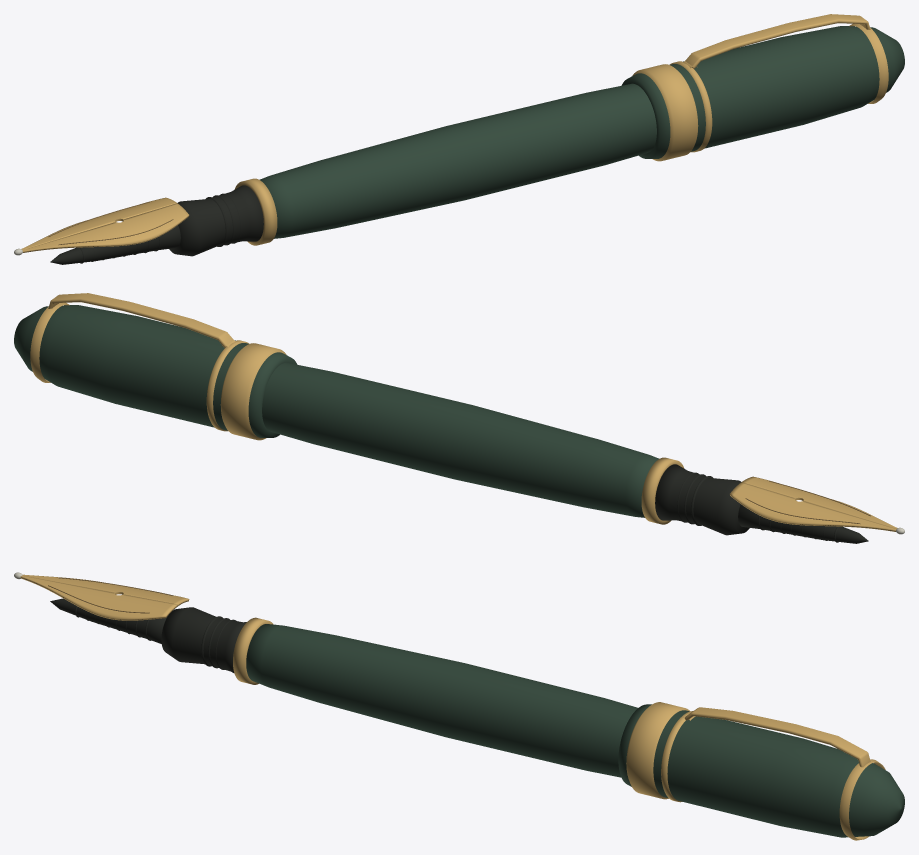
File: pen.glb
3 renders of one model, top to bottom at view 1: azimuth 30°, elevation 25°; view 2: azimuth 150°, elevation 25°; view 3: azimuth 330°, elevation 25°, orthographic.
Parts seen in each view (by area): view 1: EXPORT_Posted cap rounded shell, EXPORT_Arched pocket clip, EXPORT_Fine grip ridge; view 2: EXPORT_Posted cap rounded shell, EXPORT_Arched pocket clip, EXPORT_Fine grip ridge; view 3: EXPORT_Posted cap rounded shell, EXPORT_Arched pocket clip, EXPORT_Fine grip ridge.
Part boxes in pixels (x1,y1,x2,y2): EXPORT_Posted cap rounded shell: [259, 26, 904, 238]; EXPORT_Arched pocket clip: [21, 14, 888, 252]; EXPORT_Fine grip ridge: [50, 185, 263, 264]; EXPORT_Posted cap rounded shell: [14, 305, 659, 517]; EXPORT_Arched pocket clip: [30, 293, 897, 531]; EXPORT_Fine grip ridge: [655, 464, 868, 543]; EXPORT_Posted cap rounded shell: [246, 624, 904, 837]; EXPORT_Arched pocket clip: [20, 574, 885, 840]; EXPORT_Fine grip ridge: [50, 598, 246, 672].
Size of the model in its own units: 3.82 by 0.404 by 0.35.
